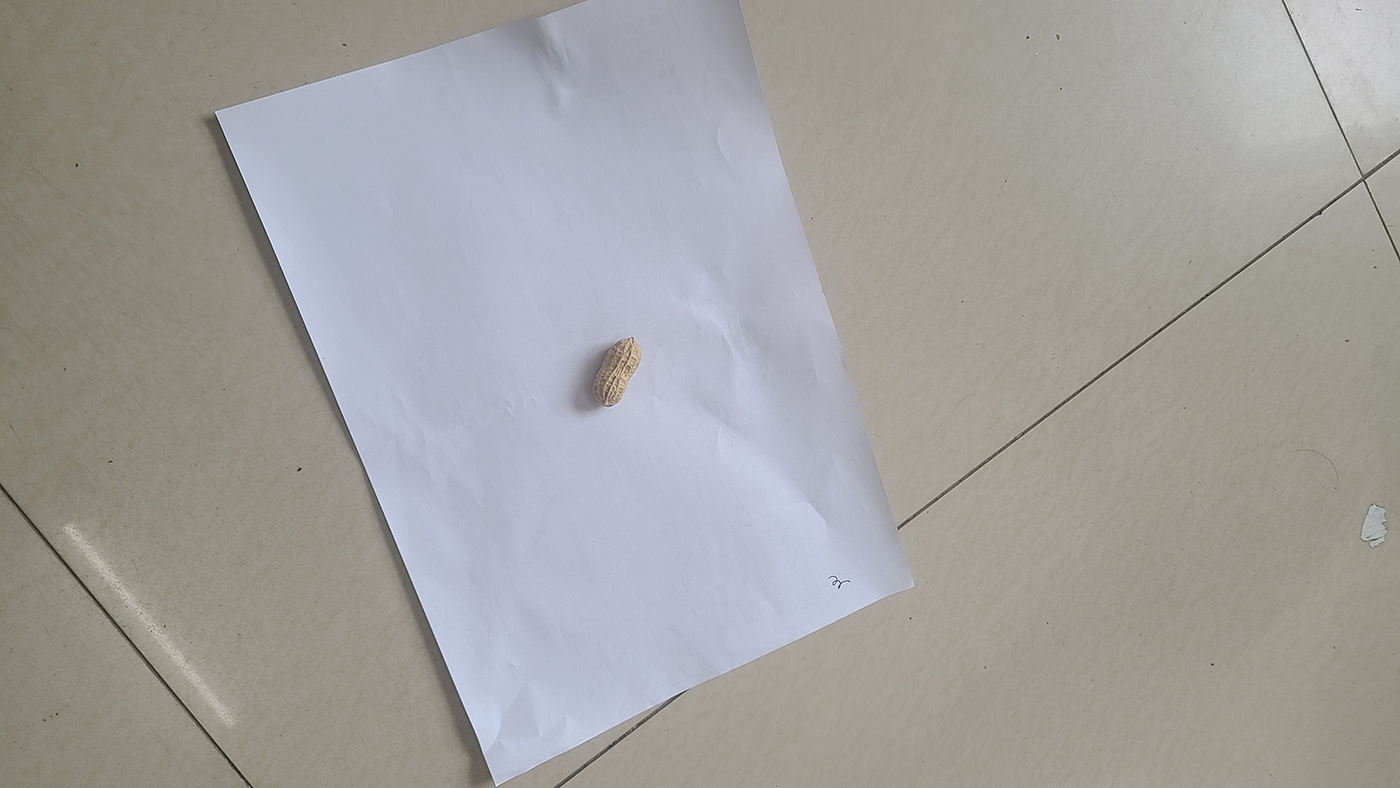h: (592, 337, 641, 406)
